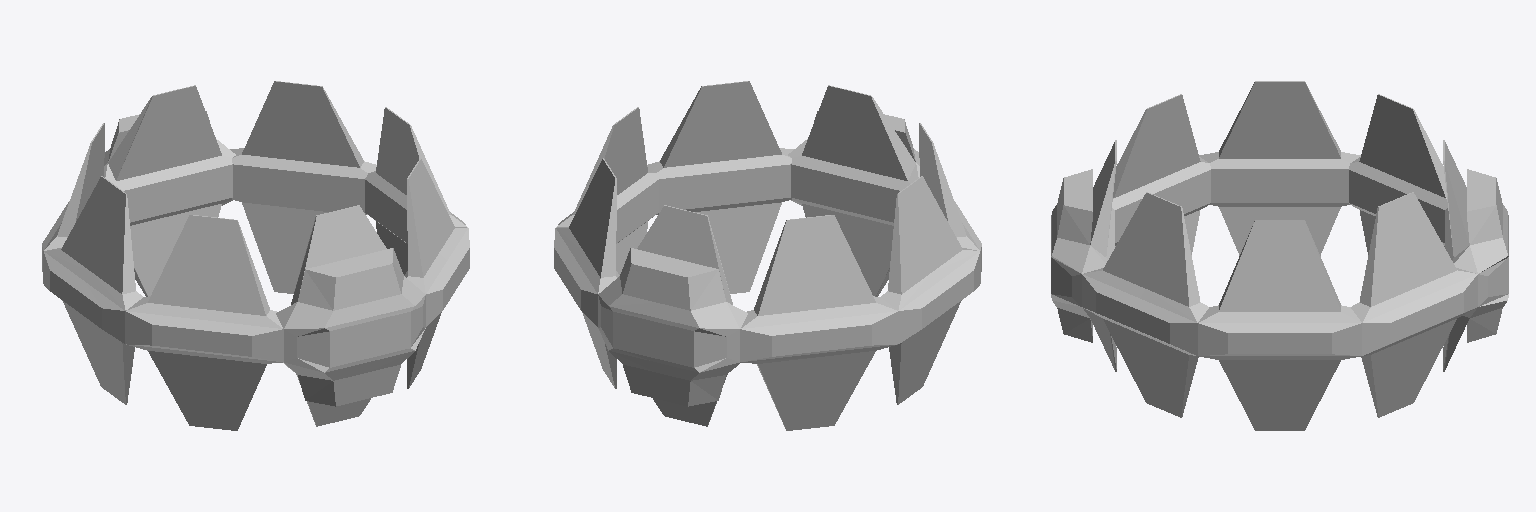
File: hyperspace_relay.obj
3 renders of one model, left to right at view 1: azimuth 30°, elevation 25°; view 2: azimuth 150°, elevation 25°; view 3: azimuth 270°, elevation 25°, orthographic.
Parts seen in each view (by area): view 1: Cube; view 2: Cube; view 3: Cube.
Part boxes in pixels (left/top/right/bottom): Cube: left=42, top=81, right=469, bottom=430; Cube: left=554, top=81, right=981, bottom=430; Cube: left=1051, top=81, right=1508, bottom=430.
Bounding box in the file's own units: 6.54 × 3.66 × 7.2.